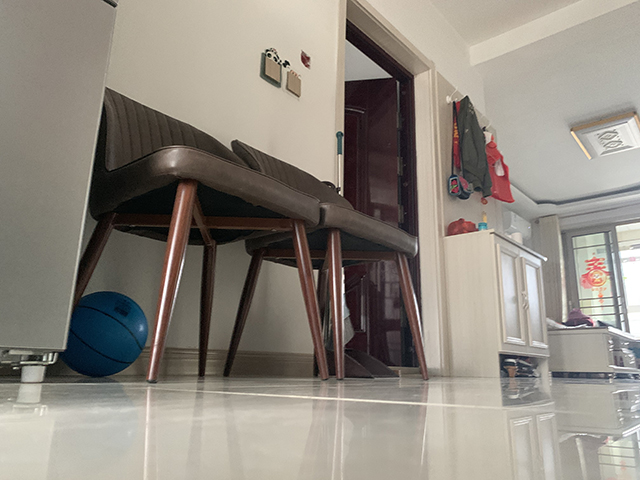cabinet: (441, 229, 551, 378)
stool: (71, 84, 332, 382), (219, 136, 432, 381)
table: (547, 324, 640, 380)
